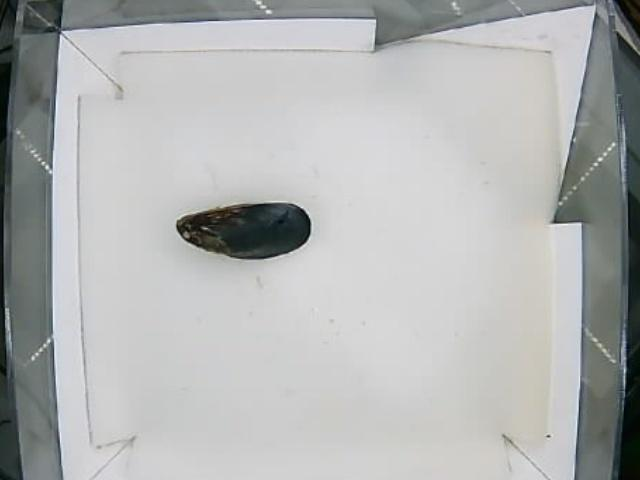Shell: (175, 202, 311, 260)
